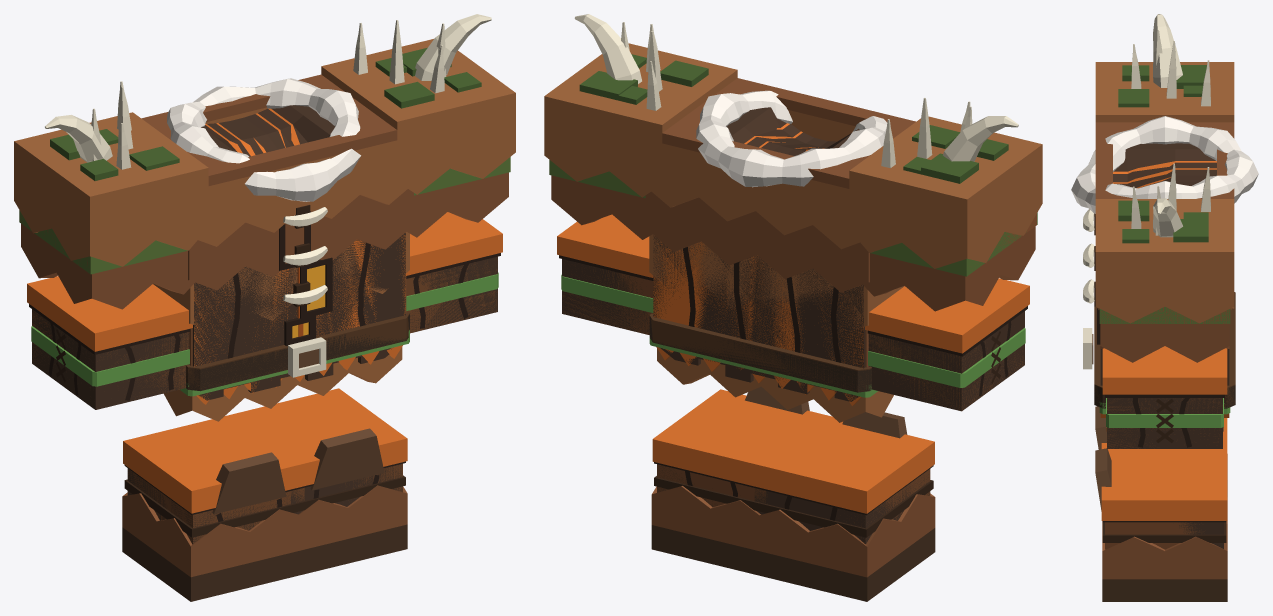
Rendered from w2_armor.fbx.
3 renders of one model, left to right at view 1: azimuth 30°, elevation 25°; view 2: azimuth 150°, elevation 25°; view 3: azimuth 270°, elevation 25°, orthographic. The views are drawn at different scales.
Parts seen in each view (by area): view 1: HeartwoodBark.Chest, PineconeScale.ShoulderR, PineconeScale.Scales, PineconeScale.ScalesDark, PineconeScale.ShoulderL, WoodlandHide.LegFurR, WoodlandHide.Collar, PineconeScale.KneeDarkR, WoodlandHide.LegFurL, WoodlandHide.FurR, PineconeScale.ShoulderDarkR, HeartwoodBark.BracerR (+34 smaller); view 2: PineconeScale.Scales, PineconeScale.ShoulderR, HeartwoodBark.Chest, PineconeScale.ScalesDark, PineconeScale.ShoulderL, WoodlandHide.LegFurR, WoodlandHide.LegFurL, WoodlandHide.Collar, PineconeScale.KneeDarkR, WoodlandHide.Vest, WoodlandHide.FurR, HeartwoodBark.BracerR (+30 smaller); view 3: PineconeScale.ShoulderL, WoodlandHide.LegFurL, WoodlandHide.Collar, PineconeScale.ShoulderR, WoodlandHide.FurL, PineconeScale.KneeDarkL, PineconeScale.ShoulderDarkL, HeartwoodBark.BracerL, HeartwoodBark.Chest, PineconeScale.BootL, PineconeScale.ScalesDark, HeartwoodBark.MossL (+21 smaller).
Boxes of the visible parts, <box> form: HeartwoodBark.Chest: <box>192,105,405,400</box>; PineconeScale.ShoulderR: <box>14,112,208,266</box>; PineconeScale.Scales: <box>153,107,417,421</box>; PineconeScale.ScalesDark: <box>141,74,413,365</box>; PineconeScale.ShoulderL: <box>321,39,515,194</box>; WoodlandHide.LegFurR: <box>123,412,309,513</box>; WoodlandHide.Collar: <box>167,78,361,201</box>; PineconeScale.KneeDarkR: <box>122,492,309,577</box>; WoodlandHide.LegFurL: <box>224,388,407,484</box>; WoodlandHide.FurR: <box>27,276,192,351</box>; PineconeScale.ShoulderDarkR: <box>21,224,194,309</box>; HeartwoodBark.BracerR: <box>32,310,189,409</box>; PineconeScale.Scales: <box>641,110,904,422</box>; PineconeScale.ShoulderR: <box>849,116,1042,268</box>; HeartwoodBark.Chest: <box>653,107,865,401</box>; PineconeScale.ScalesDark: <box>645,78,915,367</box>; PineconeScale.ShoulderL: <box>544,43,737,197</box>; WoodlandHide.LegFurR: <box>750,419,934,513</box>; WoodlandHide.LegFurL: <box>652,389,835,489</box>; WoodlandHide.Collar: <box>696,90,887,187</box>; PineconeScale.KneeDarkR: <box>749,493,935,577</box>; WoodlandHide.Vest: <box>653,123,863,405</box>; WoodlandHide.FurR: <box>865,278,1029,353</box>; HeartwoodBark.BracerR: <box>868,311,1024,410</box>; PineconeScale.ShoulderL: <box>1095,199,1234,323</box>; WoodlandHide.LegFurL: <box>1101,456,1227,520</box>; WoodlandHide.Collar: <box>1071,116,1258,213</box>; PineconeScale.ShoulderR: <box>1095,62,1234,122</box>; WoodlandHide.FurL: <box>1102,346,1227,394</box>; PineconeScale.KneeDarkL: <box>1102,497,1227,579</box>; PineconeScale.ShoulderDarkL: <box>1100,324,1229,362</box>; HeartwoodBark.BracerL: <box>1107,398,1222,448</box>; HeartwoodBark.Chest: <box>1100,143,1229,385</box>; PineconeScale.BootL: <box>1102,579,1227,601</box>; PineconeScale.ScalesDark: <box>1095,122,1234,309</box>; HeartwoodBark.MossL: <box>1118,200,1208,243</box>.
Bounding box in the file's own units: 4.55 × 4.8 × 1.81.
